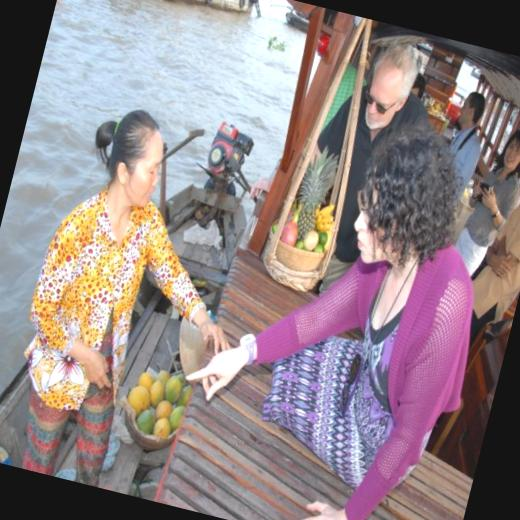Mango: (288, 141, 343, 246)
